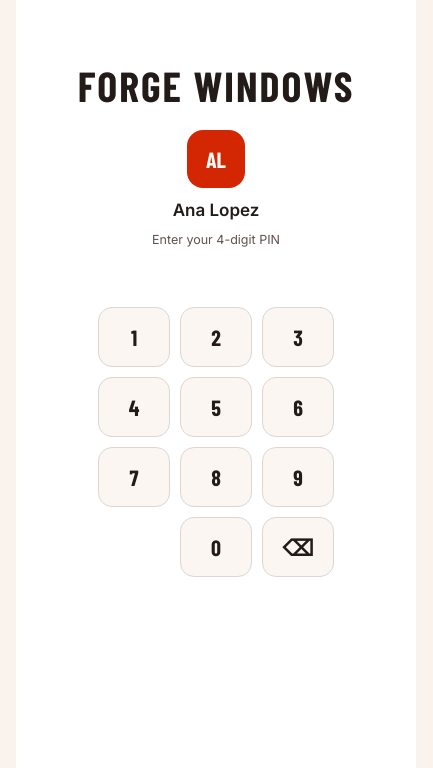
it: the shift-long offline unlock (owner's decision, 2026-09-24) › a wrong PIN with no signal is refused, and says how many tries are left
What coordinates should you click on to do the following:
click the button "1"
I would click on:
 (134, 337)
Its box is [98, 307, 170, 367].
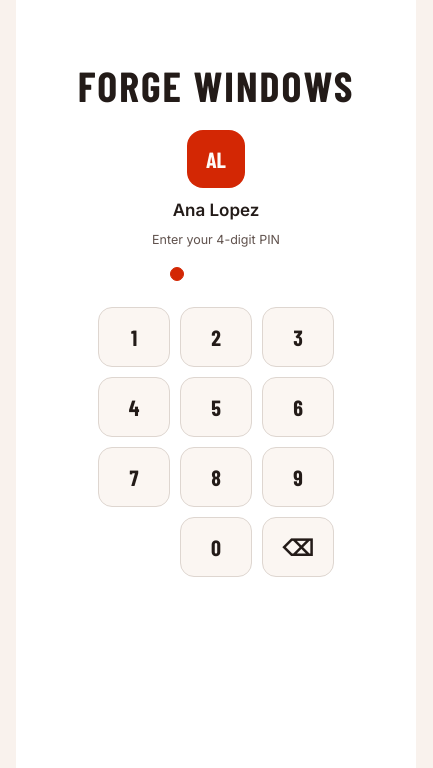
What coordinates should you click on to do the following:
click the button "1"
I would click on:
 (134, 337)
Its box is [98, 307, 170, 367].
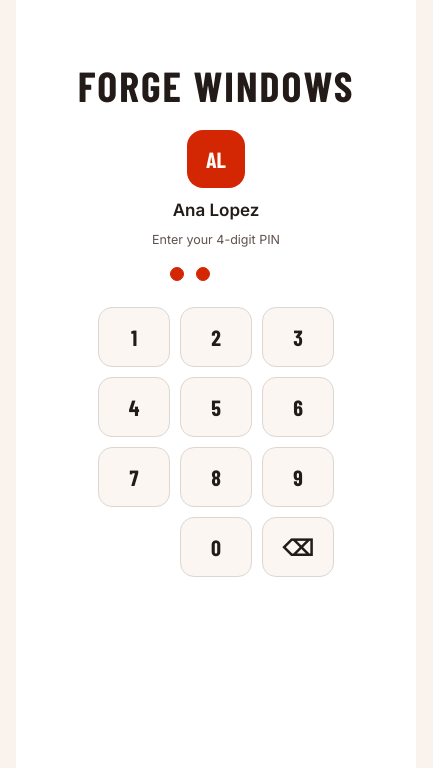
What coordinates should you click on to do the following:
click the button "1"
I would click on:
 (134, 337)
Its box is [98, 307, 170, 367].
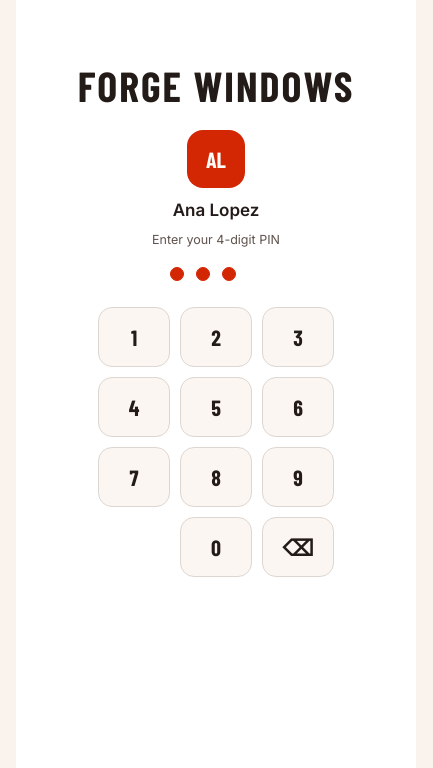
What coordinates should you click on to do the following:
click the button "1"
I would click on:
 (134, 337)
Its box is [98, 307, 170, 367].
Wait 100 ms
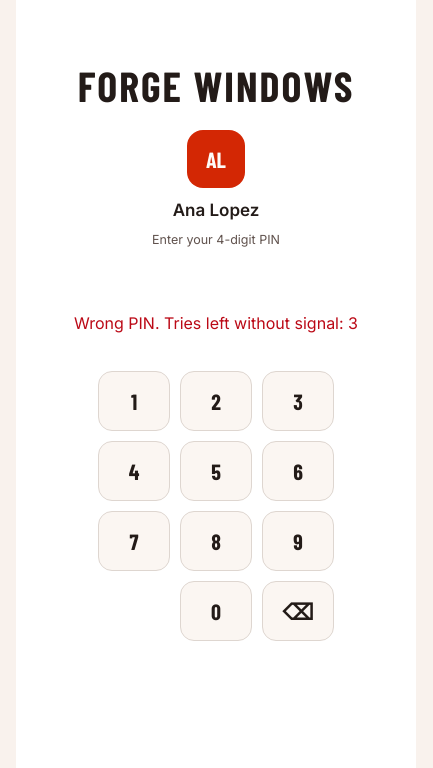
Check: the text "Wrong PIN. Tries left without signal: 3" is shown, box [74, 313, 358, 333]
